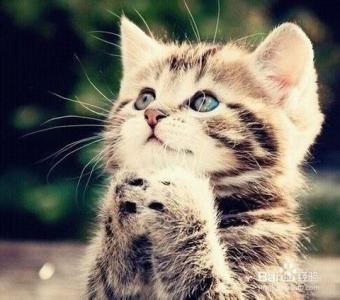cat: (100, 14, 335, 210)
